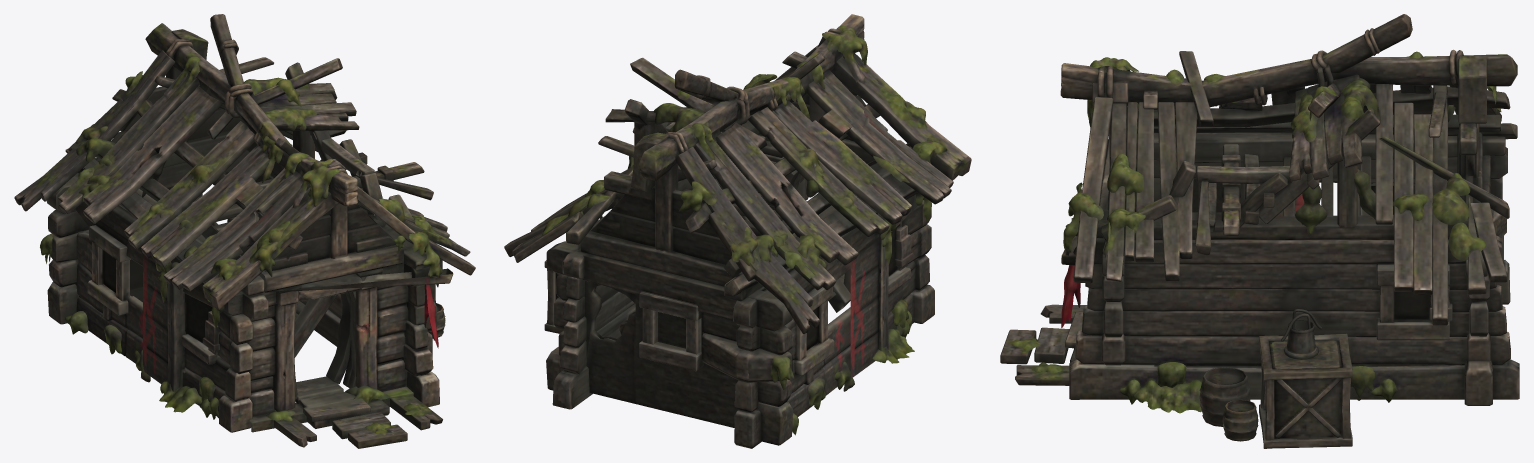
Rendered from house_ruin.glb.
The picture shows the model from 3 angles, left to right: view 1: azimuth 30°, elevation 25°; view 2: azimuth 150°, elevation 25°; view 3: azimuth 270°, elevation 25°; orthographic projection. The views are drawn at different scales.
Parts seen in each view (by area): view 1: house_ruin_0; view 2: house_ruin_0; view 3: house_ruin_0.
Boxes of the visible parts, x1,y1,x2,y2 form: house_ruin_0: [14, 14, 475, 448]; house_ruin_0: [504, 14, 971, 448]; house_ruin_0: [1000, 14, 1519, 448].
Size of the model in its own units: 0.8179 by 0.7437 by 0.9995.
1 material, 1 textured.
